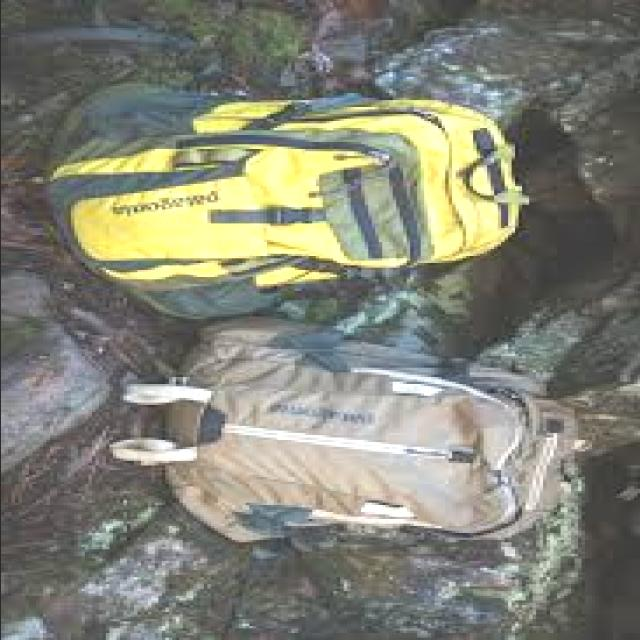backpack: (40, 80, 533, 322), (134, 316, 574, 548)
